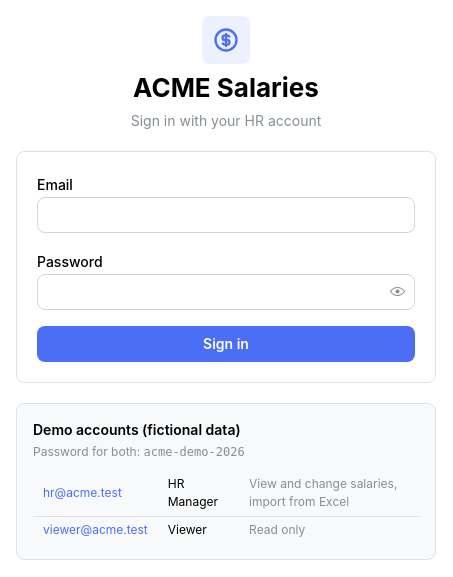
Test: sign-in › fills in a demo account when it is clicked
Click the button "viewer@acme.test".
click(95, 530)  # box [43,522,148,539]
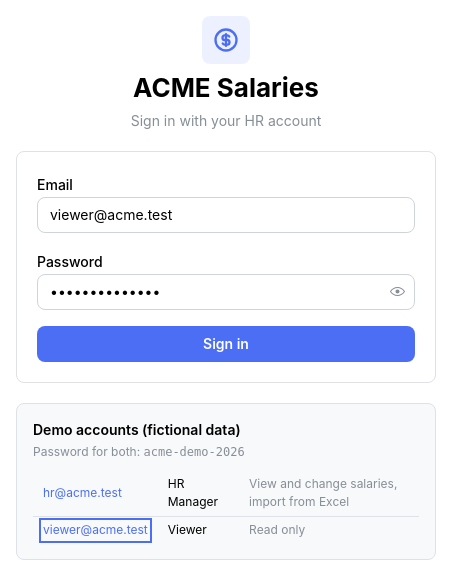
Expected: the field labelled "Email" holds "viewer@acme.test", [37,197,415,233]
Expected: the password field labelled "Password" holds "acme-demo-2026", [38,274,414,308]
